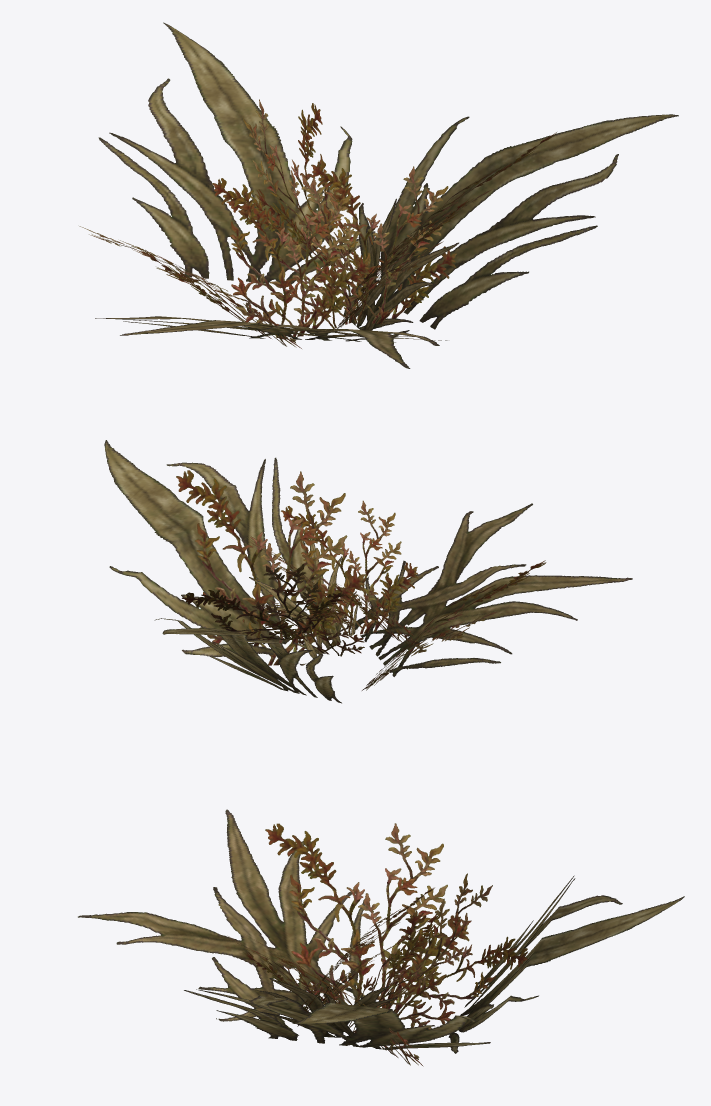
The model's file is SM_EN_2006_zhiwu06.FBX.
3 views of the same model, one above another, from view 1: azimuth 30°, elevation 25°; view 2: azimuth 150°, elevation 25°; view 3: azimuth 270°, elevation 25° (orthographic). The views are drawn at different scales.
Parts seen in each view (by area): view 1: SM_EN_2006_zhiwu06; view 2: SM_EN_2006_zhiwu06; view 3: SM_EN_2006_zhiwu06.
Boxes of the visible parts, box(x1,y1,x2,y2) form: SM_EN_2006_zhiwu06: box(79, 22, 678, 368); SM_EN_2006_zhiwu06: box(104, 440, 632, 703); SM_EN_2006_zhiwu06: box(78, 809, 684, 1066).
Bounding box in the file's own units: 428 × 135 × 429.
